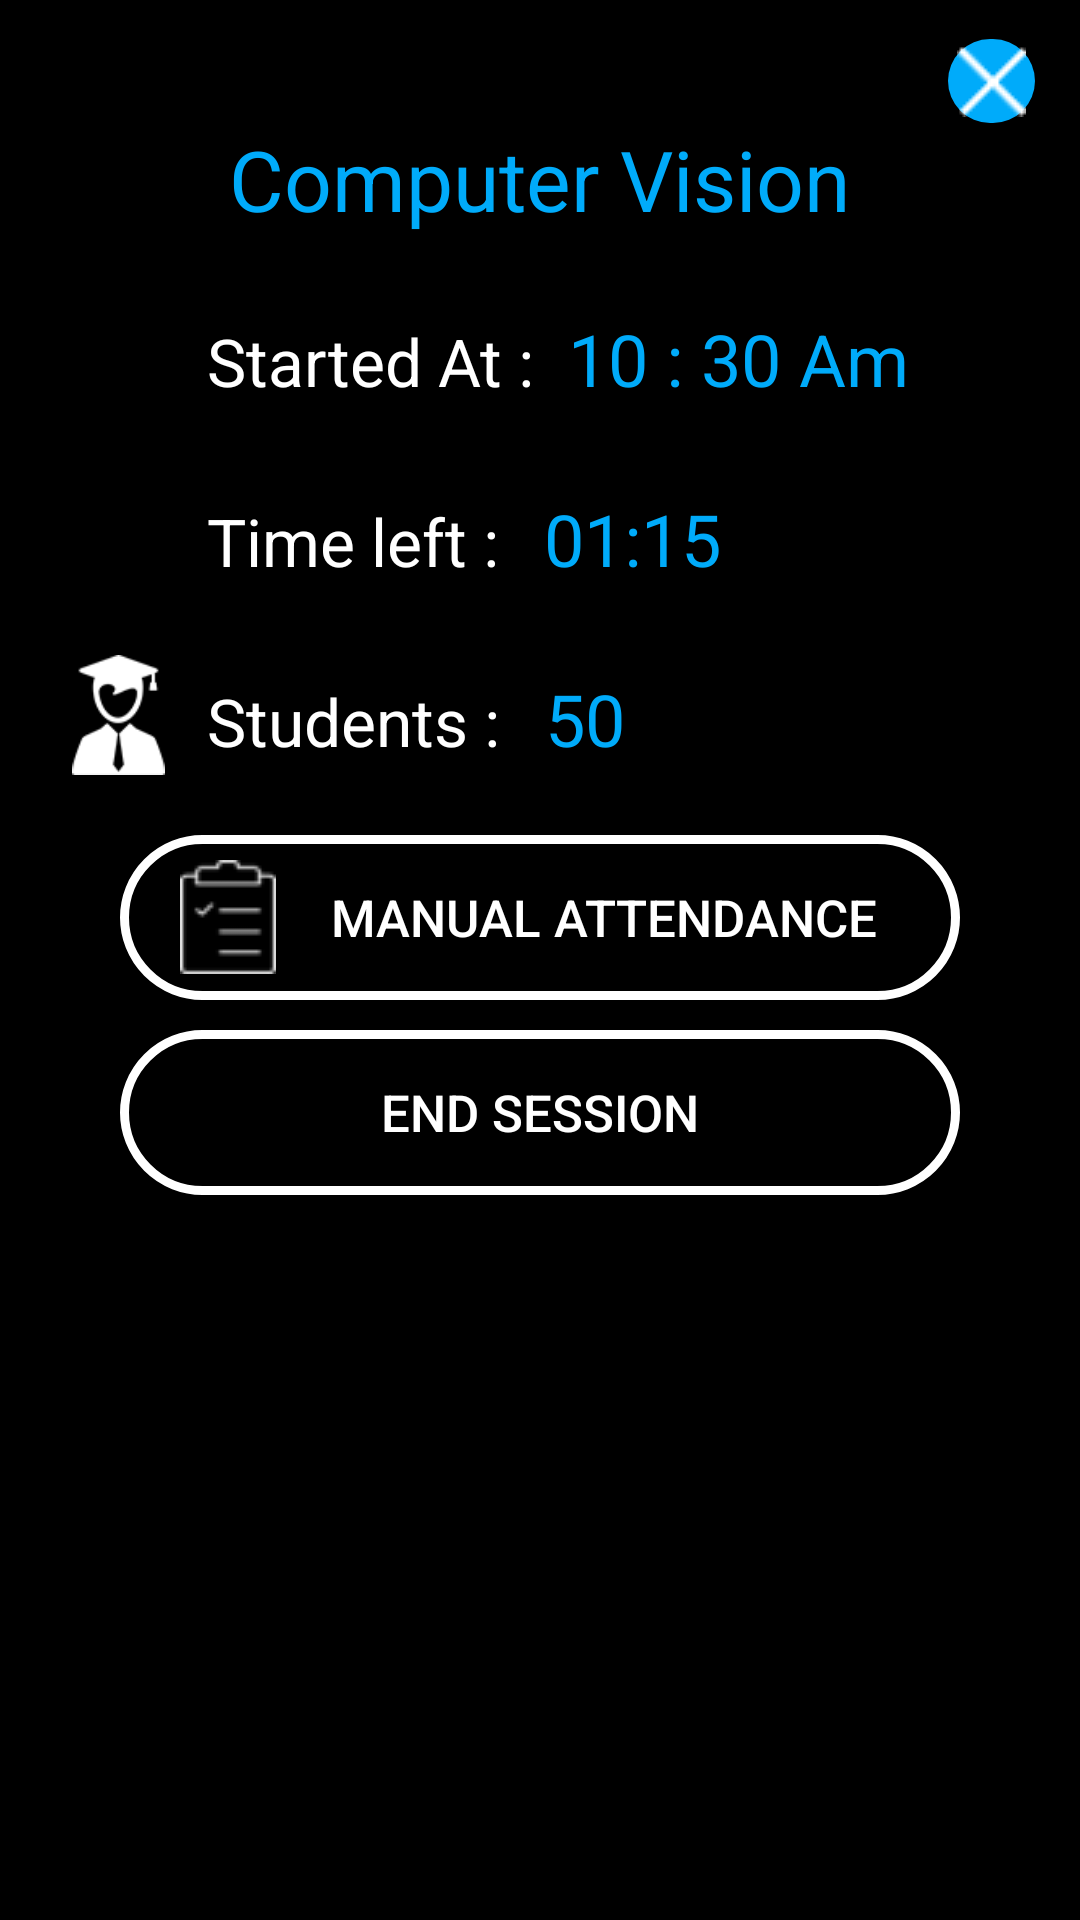

Screen size 1080px x 1920px. Icon name, then its box in pixels as (x1=x1, y1=y1, x2=x2, y2=y2):
cancel: (x1=948, y1=39, x2=1035, y2=123)
